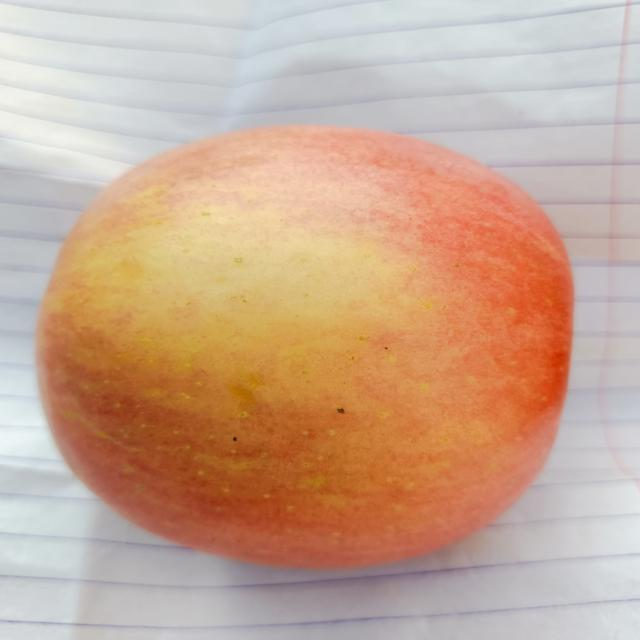Fresh Apple: (55, 132, 552, 556)
